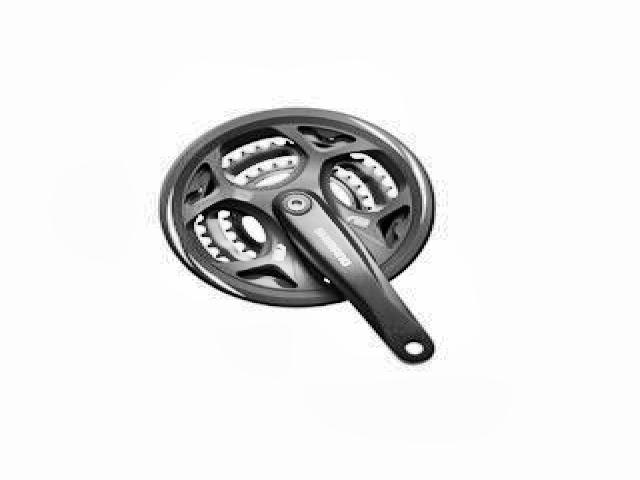cranks_set: (152, 104, 442, 367)
